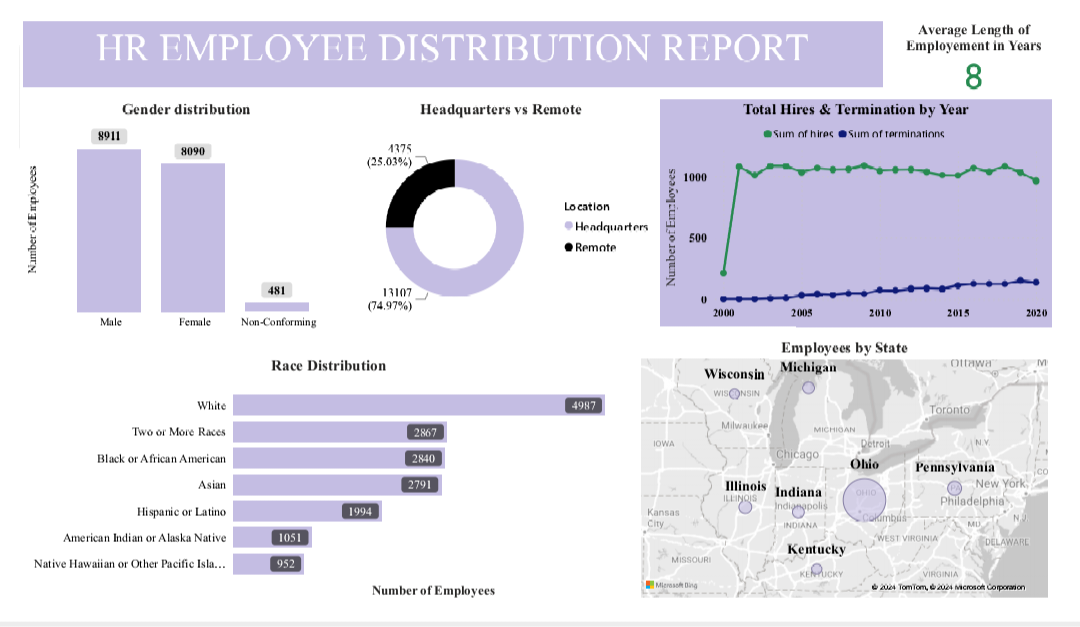

Layout of this report page (visuals, bound fields, positions):
{"tool":"powerbi","page":{"name":"Page 1","canvas":[1280,720],"ordinal":0},"visuals":[{"type":"textbox","box":[4.5,6,1056.7,82.1],"z":0},{"type":"columnChart","title":"Gender distribution","fields":{"Category":["Gender.gender"],"Y":["Sum(Gender.count_of_emp)"]},"box":[4.5,103,401.5,289.6],"z":1000},{"type":"donutChart","title":"Headquarters vs Remote","fields":{"Category":["Location.location"],"Y":["Sum(Location.count(*))"]},"box":[395.5,103,392.5,292.5],"z":2000},{"type":"map","title":"Employees by State","fields":{"Size":["Sum(state.count(*))"],"Category":["state.location_state"]},"box":[759.7,395.5,509,323.9],"z":3000},{"type":"clusteredBarChart","title":"Race Distribution","fields":{"Category":["Ethnicity.race"],"Y":["Sum(Ethnicity.count)"]},"box":[0,419.4,759.7,300],"z":4000},{"type":"lineChart","title":"Total Hires & Termination by Year","fields":{"Y":["Sum(employee_count_change (1).hires)","Sum(employee_count_change (1).terminations)"],"Category":["employee_count_change (1).year"]},"box":[788.1,103,480.6,279.1],"z":5000},{"type":"card","title":"Average Length of Employement in Years","fields":{"Values":["Sum(average_length.avg_length)"]},"box":[1077.6,6,191,92.5],"z":6000}]}

Visuals, with their boxes on the page's 1280x720 design canvas (x1, y1, x2, y2). These are canvas units, not pixel positions in the 1080x627 screenshot, which may show the page scaled, cropped or inside an application window:
textbox: bbox=(4, 6, 1061, 88)
"Gender distribution" columnChart: bbox=(4, 103, 406, 393)
"Headquarters vs Remote" donutChart: bbox=(396, 103, 788, 396)
"Employees by State" map: bbox=(760, 396, 1269, 719)
"Race Distribution" clusteredBarChart: bbox=(0, 419, 760, 719)
"Total Hires & Termination by Year" lineChart: bbox=(788, 103, 1269, 382)
"Average Length of Employement in Years" card: bbox=(1078, 6, 1269, 98)
